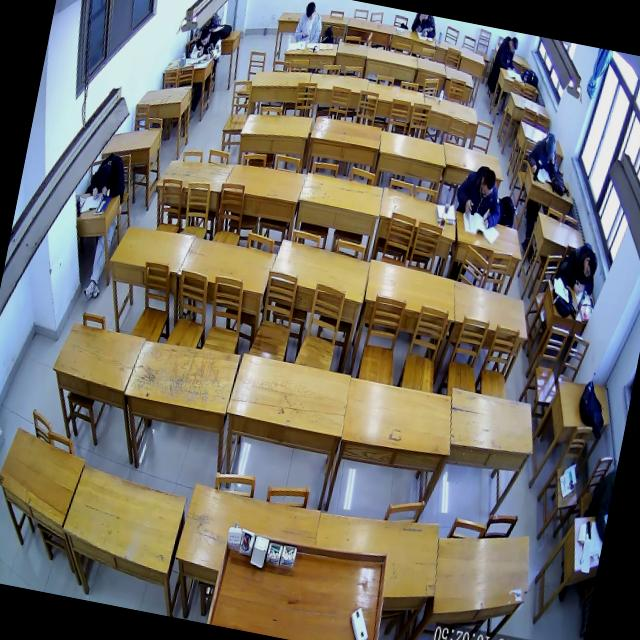bow: (89, 151, 131, 205)
down: (478, 168, 498, 200), (582, 252, 600, 280), (96, 163, 112, 189), (544, 133, 558, 158), (304, 1, 316, 21), (198, 27, 210, 47), (508, 37, 520, 54)
sit: (451, 162, 509, 234), (556, 240, 602, 298), (526, 130, 564, 178), (293, 0, 326, 45), (190, 26, 226, 63), (495, 35, 521, 71)
